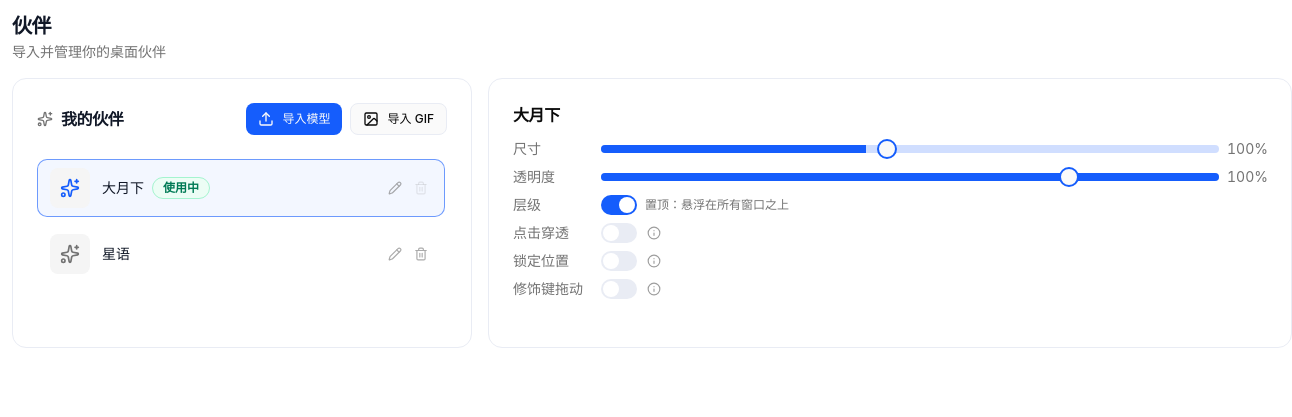
Test case: CompanionPage 伙伴模型管理器 › 列出伙伴；默认选中 active；点击其他伙伴仅切换预览不切换 active
Expected: the text "使用中" is shown, [152,177,210,199]
# 点击星语 → 预览切换为「设为当前使用」，active 仍是 大月下。
Click the button "星语" at (70, 254), box [50,234,380,274]
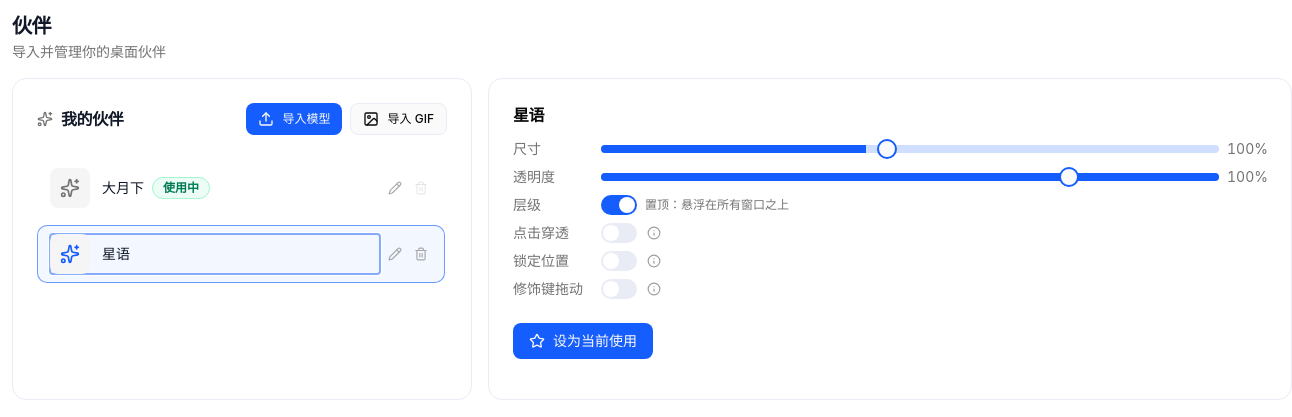
Expected: the text "使用中" is shown once, [152,177,210,199]
Expected: the button "设为当前使用" is enabled, [513,323,653,359]
